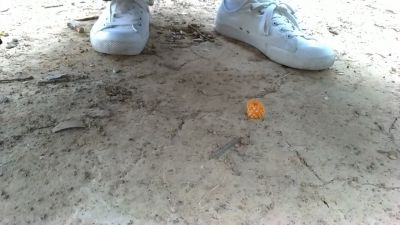eggs: (244, 98, 271, 125)
